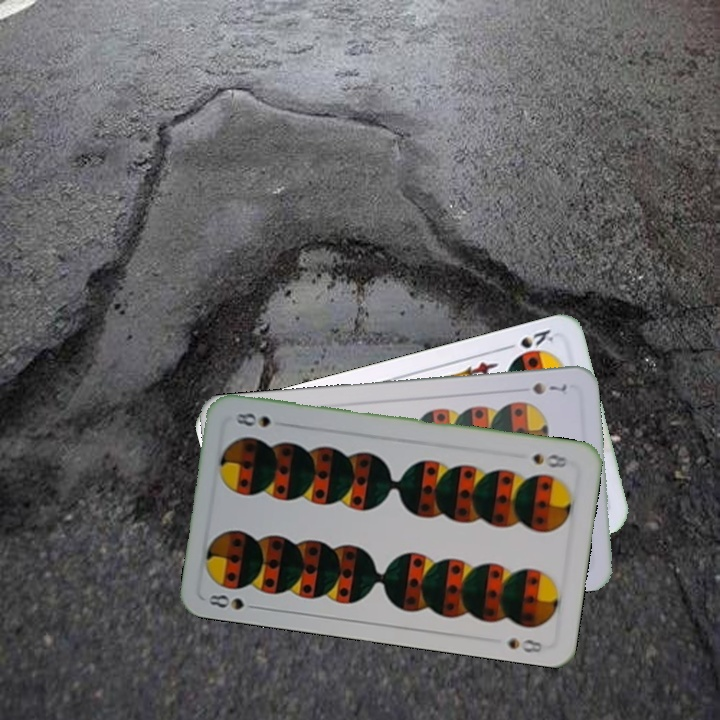S7: (528, 378, 570, 398)
S8: (204, 590, 262, 612), (529, 450, 570, 471)
SK: (499, 325, 556, 361)
